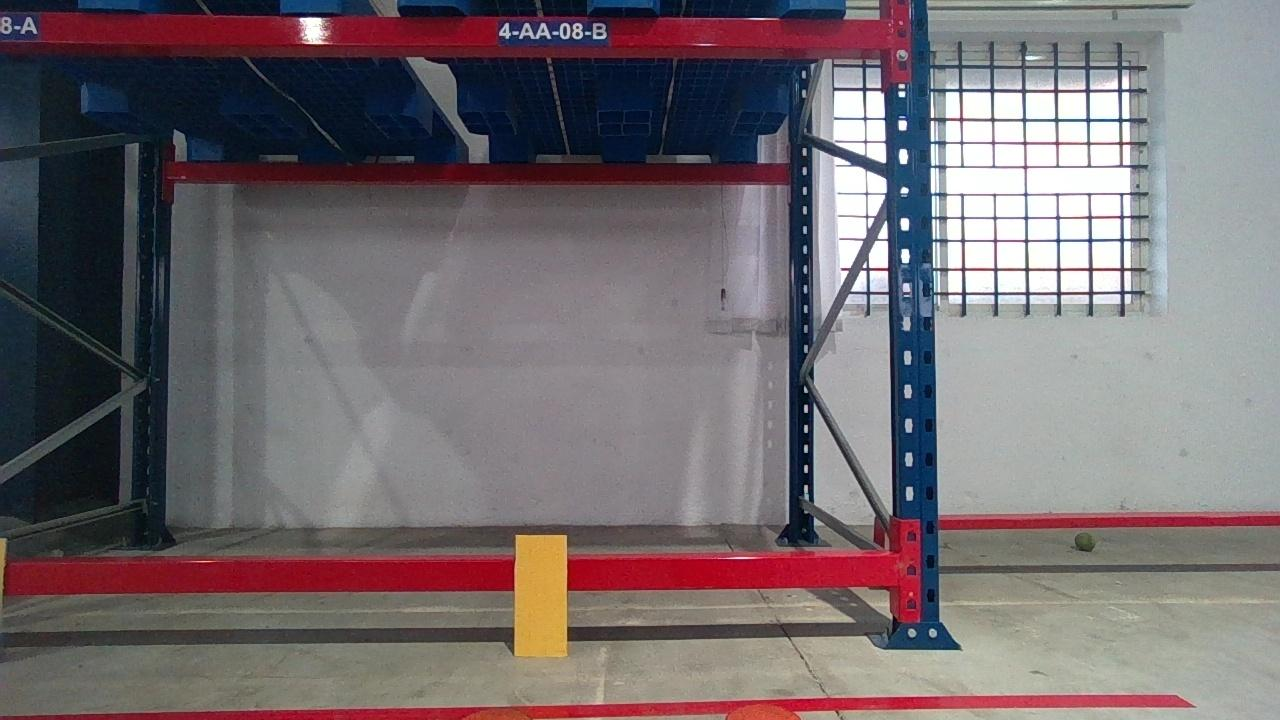h_rack: (5, 13, 890, 51), (2, 557, 908, 592)
orange_strip: (513, 534, 567, 655)
red_line: (4, 688, 1201, 720)
small_pallet: (381, 0, 878, 9)
